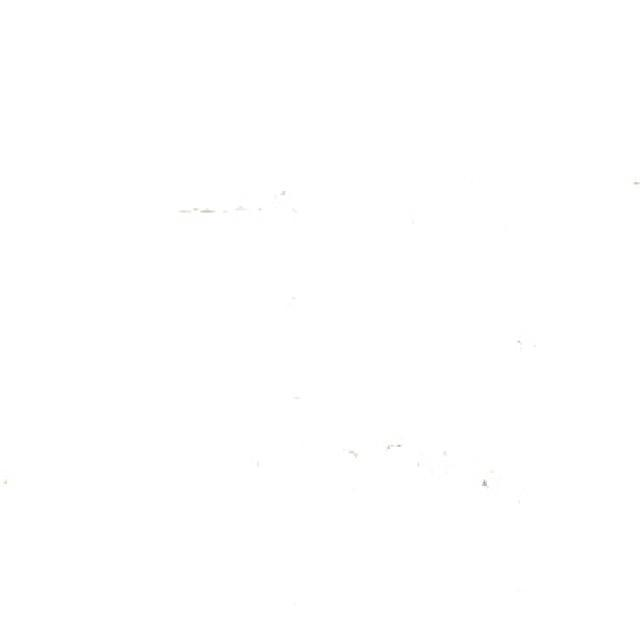crack: (169, 181, 314, 226)
